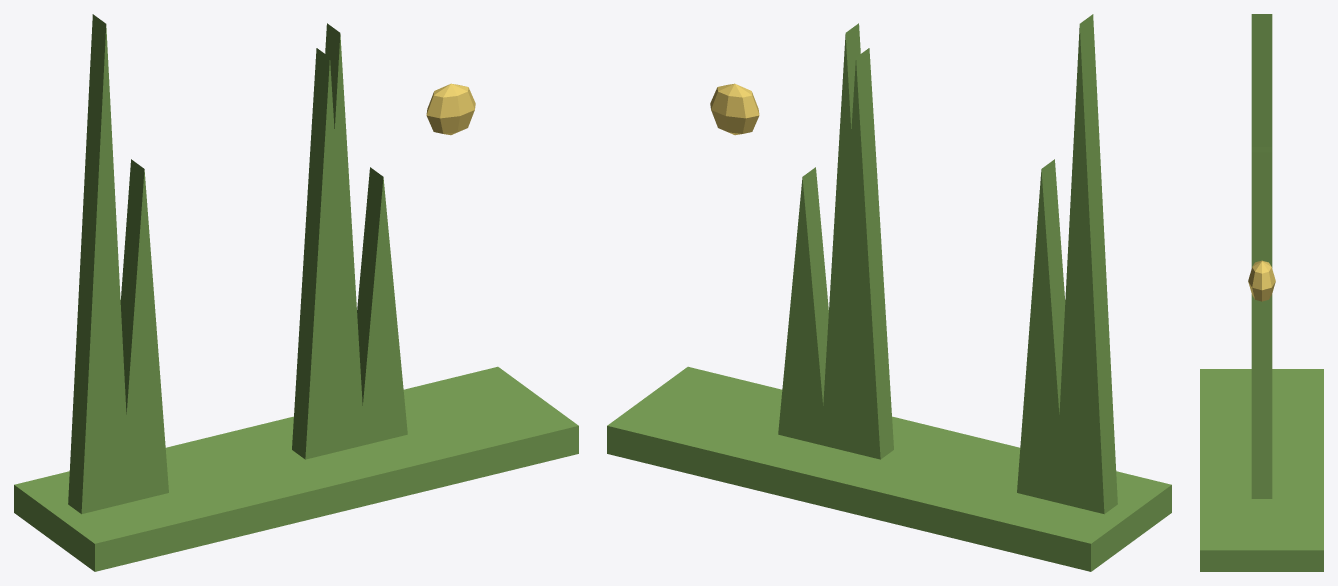
The model's file is GG-VEG-GRASS-COASTAL-DUNE-001_LOD_MAP.glb.
3 renders of one model, left to right at view 1: azimuth 30°, elevation 25°; view 2: azimuth 150°, elevation 25°; view 3: azimuth 270°, elevation 25°, orthographic. The views are drawn at different scales.
Parts seen in each view (by area): view 1: GG_VEG_MOD_BASE_001, GG_VEG_MODULE_4, GG_VEG_MODULE_5, GG_VEG_MODULE_3, GG_VEG_MODULE_2, GG_VEG_MODULE_1, GG_VEG_ACCENT_1; view 2: GG_VEG_MOD_BASE_001, GG_VEG_MODULE_4, GG_VEG_MODULE_5, GG_VEG_MODULE_3, GG_VEG_MODULE_2, GG_VEG_MODULE_1, GG_VEG_ACCENT_1; view 3: GG_VEG_MOD_BASE_001, GG_VEG_MODULE_1, GG_VEG_MODULE_4, GG_VEG_MODULE_2, GG_VEG_ACCENT_1.
Part boxes in pixels (x1,y1,x2,y2): GG_VEG_MOD_BASE_001: (14,366,578,571); GG_VEG_MODULE_4: (68,14,126,514); GG_VEG_MODULE_5: (292,48,353,459); GG_VEG_MODULE_3: (120,159,168,504); GG_VEG_MODULE_2: (316,23,364,455); GG_VEG_MODULE_1: (357,167,407,444); GG_VEG_ACCENT_1: (426,83,475,135); GG_VEG_MOD_BASE_001: (607,366,1171,571); GG_VEG_MODULE_4: (1059,14,1117,514); GG_VEG_MODULE_5: (832,48,893,459); GG_VEG_MODULE_3: (1017,159,1065,504); GG_VEG_MODULE_2: (821,23,869,455); GG_VEG_MODULE_1: (778,167,828,445); GG_VEG_ACCENT_1: (710,83,759,135); GG_VEG_MOD_BASE_001: (1200,369,1323,571); GG_VEG_MODULE_1: (1251,294,1272,498); GG_VEG_MODULE_4: (1251,14,1272,146); GG_VEG_MODULE_2: (1251,152,1272,267); GG_VEG_ACCENT_1: (1248,260,1275,301).
Bounding box in the file's own units: 1.08 × 1.09 × 0.312.
